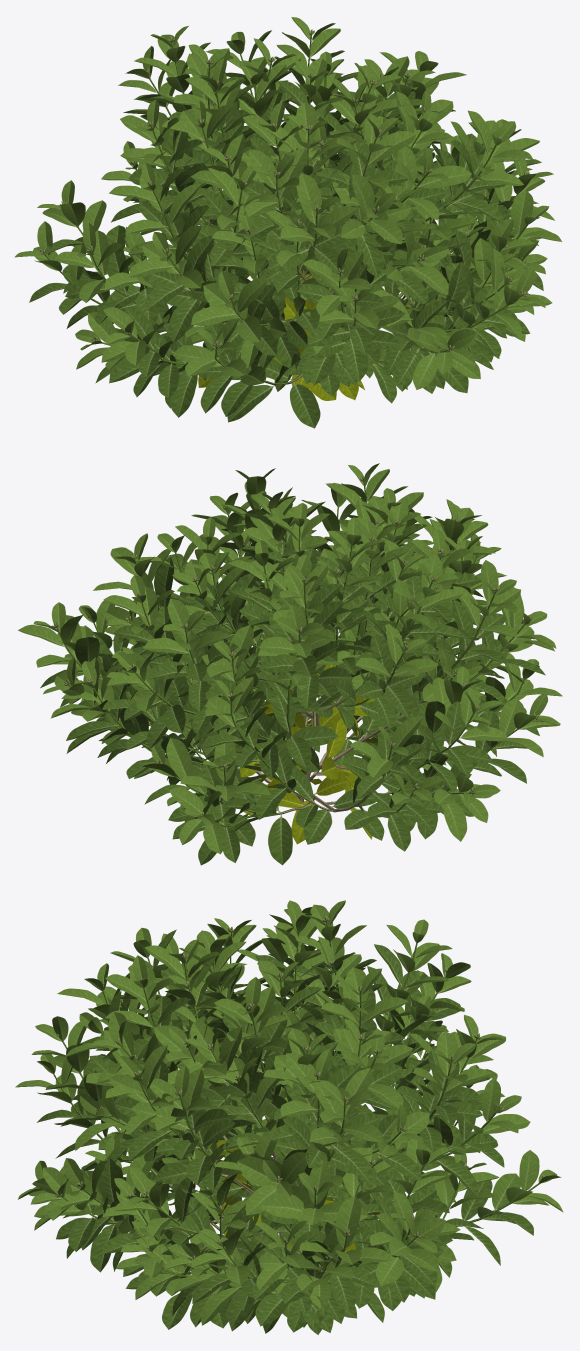
Rendered from realistic_hd_chinese_jungle_geranium_710.glb.
The picture shows the model from 3 angles, top to bottom: view 1: azimuth 30°, elevation 25°; view 2: azimuth 150°, elevation 25°; view 3: azimuth 270°, elevation 25°; orthographic projection. The views are drawn at different scales.
Parts seen in each view (by area): view 1: Ixora_chinensis_red_HD_Ixora leaf 01a_0, Ixora_chinensis_red_HD_Ixora leaf 01d_0, Ixora_chinensis_red_HD_Ixora twig_0, Ixora_chinensis_red_HD_Ixora bud_0, Ixora_chinensis_red_HD_Ixora leaf 01e_0, Ixora_chinensis_red_HD_Ixora branches_0; view 2: Ixora_chinensis_red_HD_Ixora leaf 01a_0, Ixora_chinensis_red_HD_Ixora leaf 01d_0, Ixora_chinensis_red_HD_Ixora leaf 01e_0, Ixora_chinensis_red_HD_Ixora twig_0, Ixora_chinensis_red_HD_Ixora branches_0, Ixora_chinensis_red_HD_Ixora bud_0; view 3: Ixora_chinensis_red_HD_Ixora leaf 01a_0, Ixora_chinensis_red_HD_Ixora leaf 01d_0, Ixora_chinensis_red_HD_Ixora twig_0, Ixora_chinensis_red_HD_Ixora bud_0, Ixora_chinensis_red_HD_Ixora branches_0, Ixora_chinensis_red_HD_Ixora leaf 01e_0, Ixora_chinensis_red_HD_Ixora leaf 01b_0.
Part boxes in pixels (left/top/right/bottom): Ixora_chinensis_red_HD_Ixora leaf 01a_0: left=14, top=17, right=562, bottom=389; Ixora_chinensis_red_HD_Ixora leaf 01d_0: left=29, top=56, right=543, bottom=428; Ixora_chinensis_red_HD_Ixora twig_0: left=44, top=35, right=527, bottom=375; Ixora_chinensis_red_HD_Ixora bud_0: left=39, top=29, right=532, bottom=352; Ixora_chinensis_red_HD_Ixora leaf 01e_0: left=198, top=269, right=411, bottom=400; Ixora_chinensis_red_HD_Ixora branches_0: left=130, top=146, right=457, bottom=385; Ixora_chinensis_red_HD_Ixora leaf 01a_0: left=18, top=463, right=562, bottom=854; Ixora_chinensis_red_HD_Ixora leaf 01d_0: left=40, top=508, right=545, bottom=865; Ixora_chinensis_red_HD_Ixora leaf 01e_0: left=186, top=664, right=377, bottom=844; Ixora_chinensis_red_HD_Ixora twig_0: left=56, top=482, right=534, bottom=827; Ixora_chinensis_red_HD_Ixora branches_0: left=141, top=603, right=459, bottom=823; Ixora_chinensis_red_HD_Ixora bud_0: left=52, top=476, right=539, bottom=816; Ixora_chinensis_red_HD_Ixora leaf 01a_0: left=15, top=900, right=563, bottom=1325; Ixora_chinensis_red_HD_Ixora leaf 01d_0: left=36, top=944, right=533, bottom=1334; Ixora_chinensis_red_HD_Ixora twig_0: left=53, top=922, right=540, bottom=1294; Ixora_chinensis_red_HD_Ixora bud_0: left=52, top=916, right=547, bottom=1271; Ixora_chinensis_red_HD_Ixora branches_0: left=115, top=1018, right=457, bottom=1290; Ixora_chinensis_red_HD_Ixora leaf 01e_0: left=202, top=1117, right=380, bottom=1320; Ixora_chinensis_red_HD_Ixora leaf 01b_0: left=492, top=1173, right=520, bottom=1211.
Size of the model in its own units: 1.28 by 0.8317 by 1.18.
7 materials, 7 textured.
